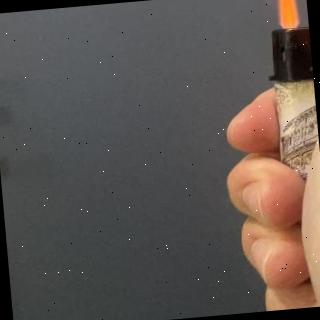fire: (268, 0, 304, 32)
